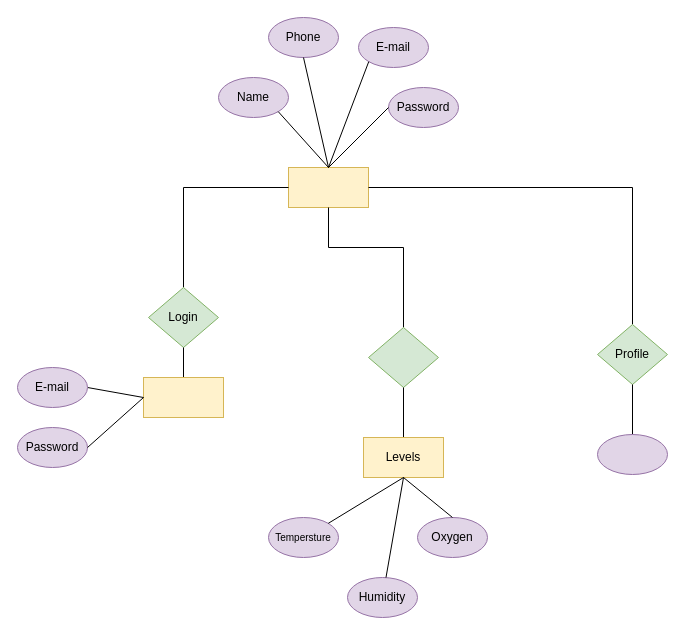
This 685x635 diagram has some shape labels left out. The centre of each missing label's shape, as x and y in pixels:
"Applicant" belongs at point 183,397.
"Home" belongs at point 403,357.
"Logout" belongs at point 632,454.
"User" belongs at point 328,187.
